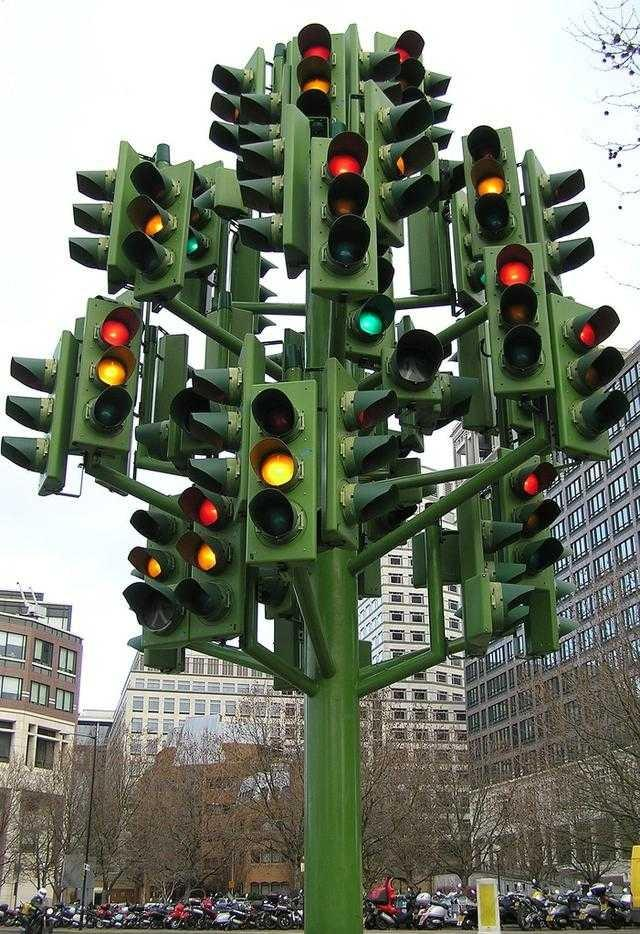green: (352, 293, 396, 347)
red: (562, 287, 637, 454), (488, 237, 552, 391), (315, 129, 375, 291), (509, 453, 569, 594), (85, 299, 145, 351), (568, 297, 623, 349), (318, 126, 369, 179), (181, 484, 232, 533), (491, 243, 544, 290), (293, 16, 339, 60), (515, 463, 557, 501), (381, 29, 432, 60)
